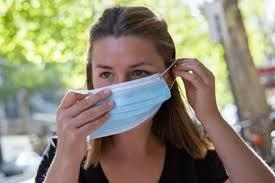mask: (69, 71, 175, 140)
